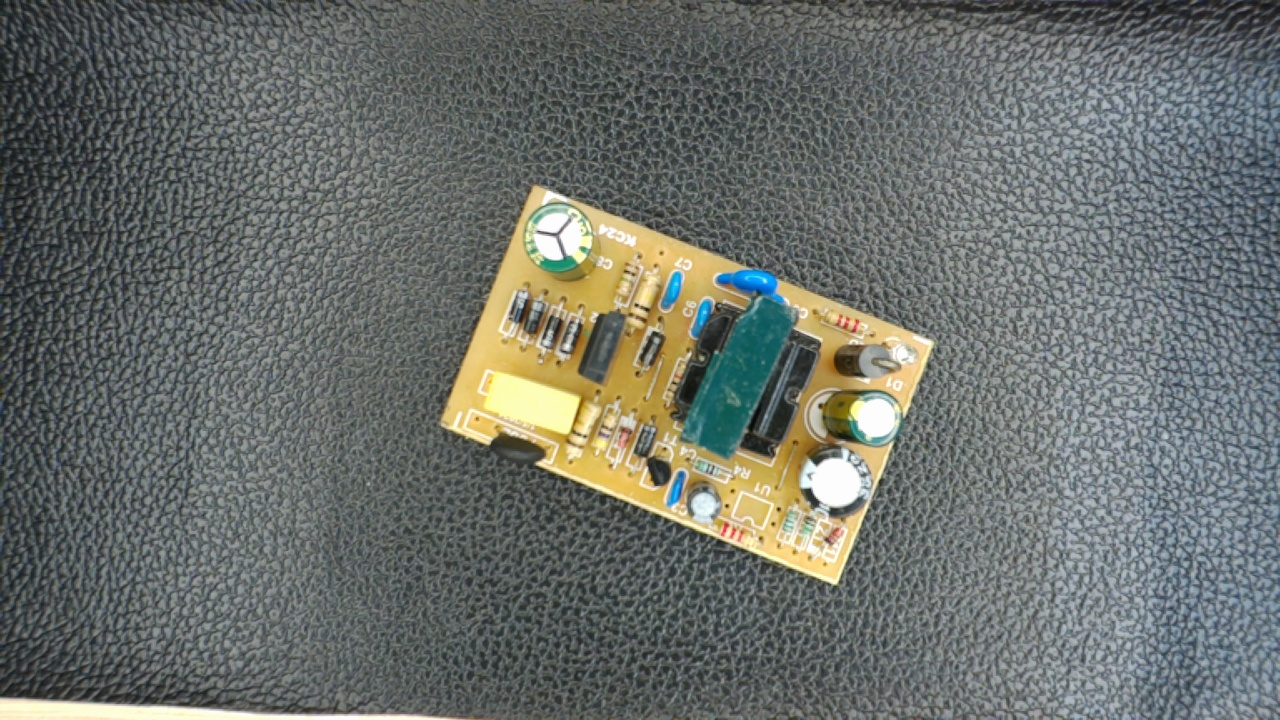fuse: (476, 419, 558, 465)
hv_capacitor: (521, 201, 603, 279)
mov: (708, 264, 795, 305)
